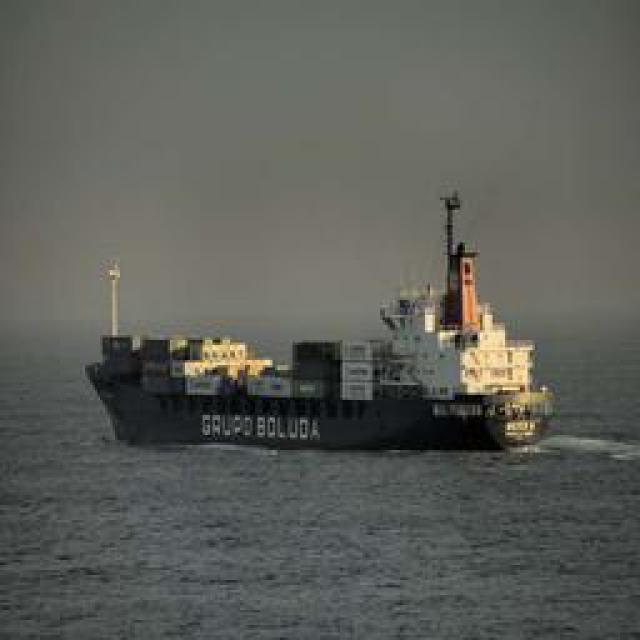Ship: (97, 190, 557, 455)
